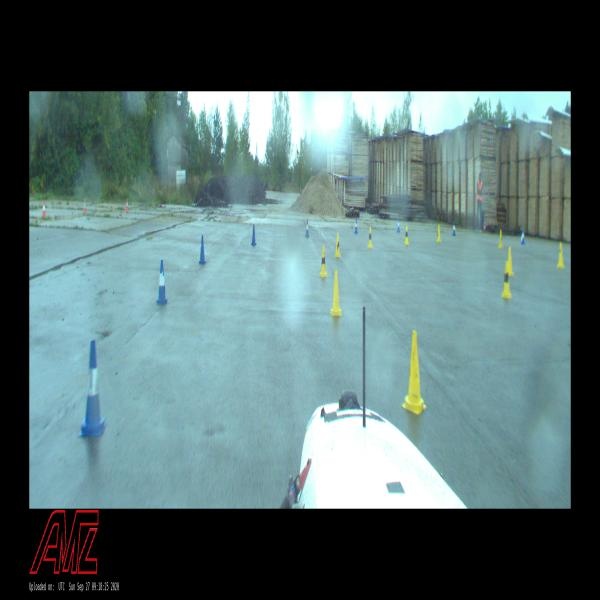blue_cone: (79, 341, 107, 435), (156, 261, 167, 304), (199, 236, 206, 264), (251, 225, 256, 245), (354, 217, 358, 234), (305, 220, 309, 235), (521, 229, 525, 244), (397, 217, 400, 232), (452, 221, 455, 236)
orange_cone: (42, 201, 46, 216), (83, 199, 86, 213), (126, 199, 128, 210)
yellow_cone: (401, 330, 426, 413), (330, 272, 341, 316), (502, 262, 510, 299), (319, 245, 327, 277), (556, 242, 564, 268), (334, 233, 341, 257), (508, 247, 514, 275), (404, 226, 409, 244), (436, 224, 441, 242), (368, 227, 372, 248), (498, 229, 502, 248)
